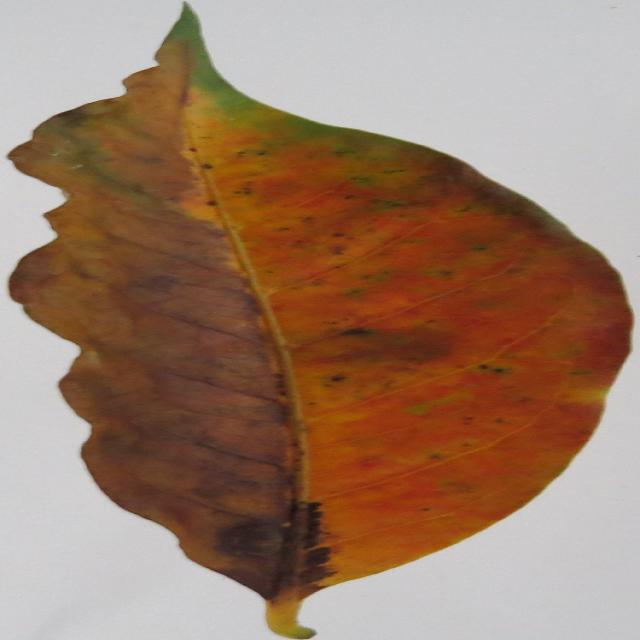DeficienciaNutricional-Fosforo: (13, 9, 624, 584)
